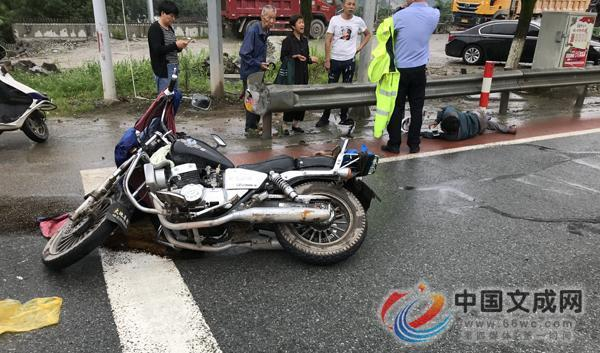Fall-Detected: (418, 97, 520, 147)
